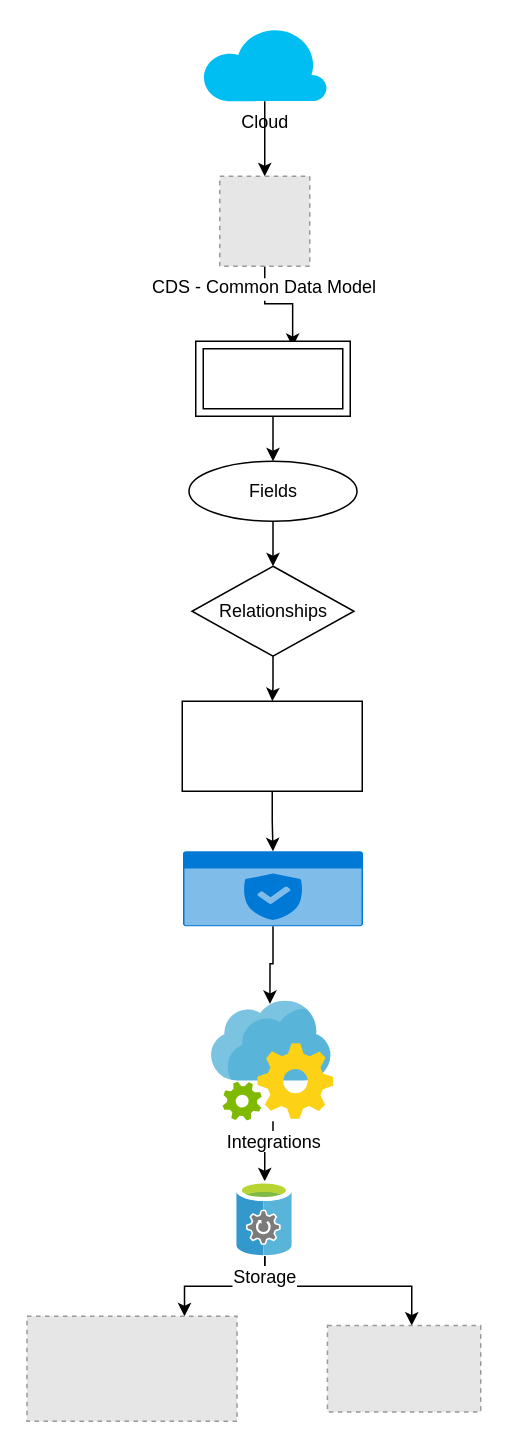
The diagram is 507 pixels wide and 1448 high, and some of its shapes have lost their labels. Grey dashed boxes stand in for pictures. Each missing label, with the centre of its shape:
"Business Logic" goes at point (271, 745).
"Data Entities" goes at point (272, 378).
"Security" goes at point (272, 888).
